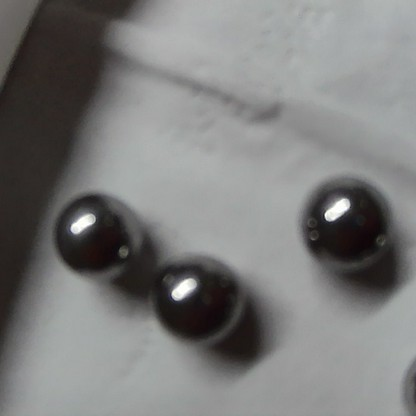ironball: (152, 235, 255, 344), (35, 170, 132, 274), (294, 171, 378, 268)
